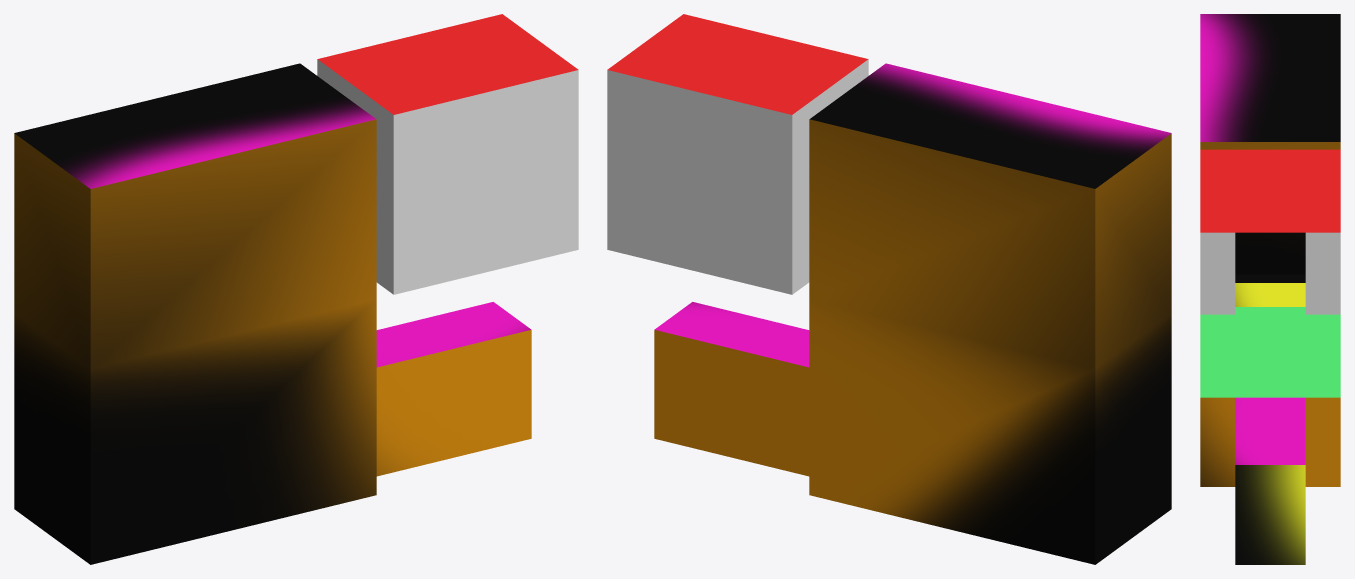
Rendered from STAIRCASE.fbx.
3 views of the same model, side by side, from view 1: azimuth 30°, elevation 25°; view 2: azimuth 150°, elevation 25°; view 3: azimuth 270°, elevation 25° (orthographic). The views are drawn at different scales.
Parts seen in each view (by area): view 1: Cube; view 2: Cube; view 3: Cube.
Part boxes in pixels (box(x1,y1,x2,y2)): Cube: box(14, 14, 578, 564); Cube: box(607, 14, 1171, 564); Cube: box(1200, 14, 1340, 564).
Size of the model in its own units: 1447 by 1065 by 392.
Materials: 1 (1 with a texture image).
